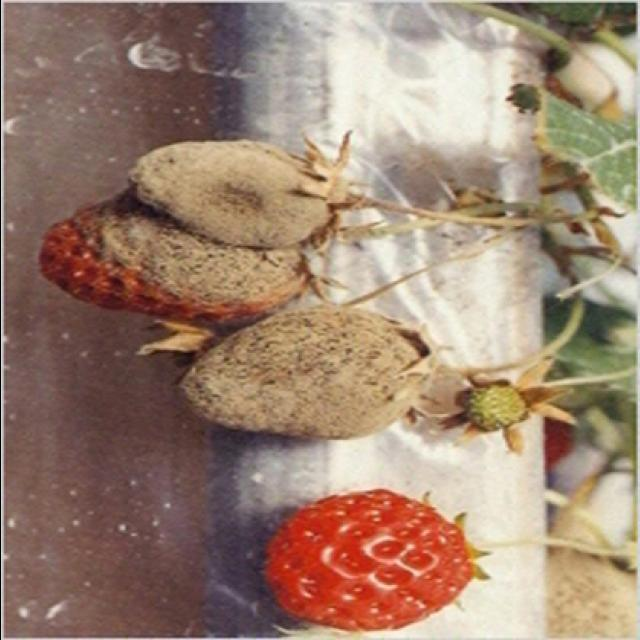Gray Mold: (49, 186, 346, 326), (172, 307, 455, 442), (127, 126, 378, 258)
